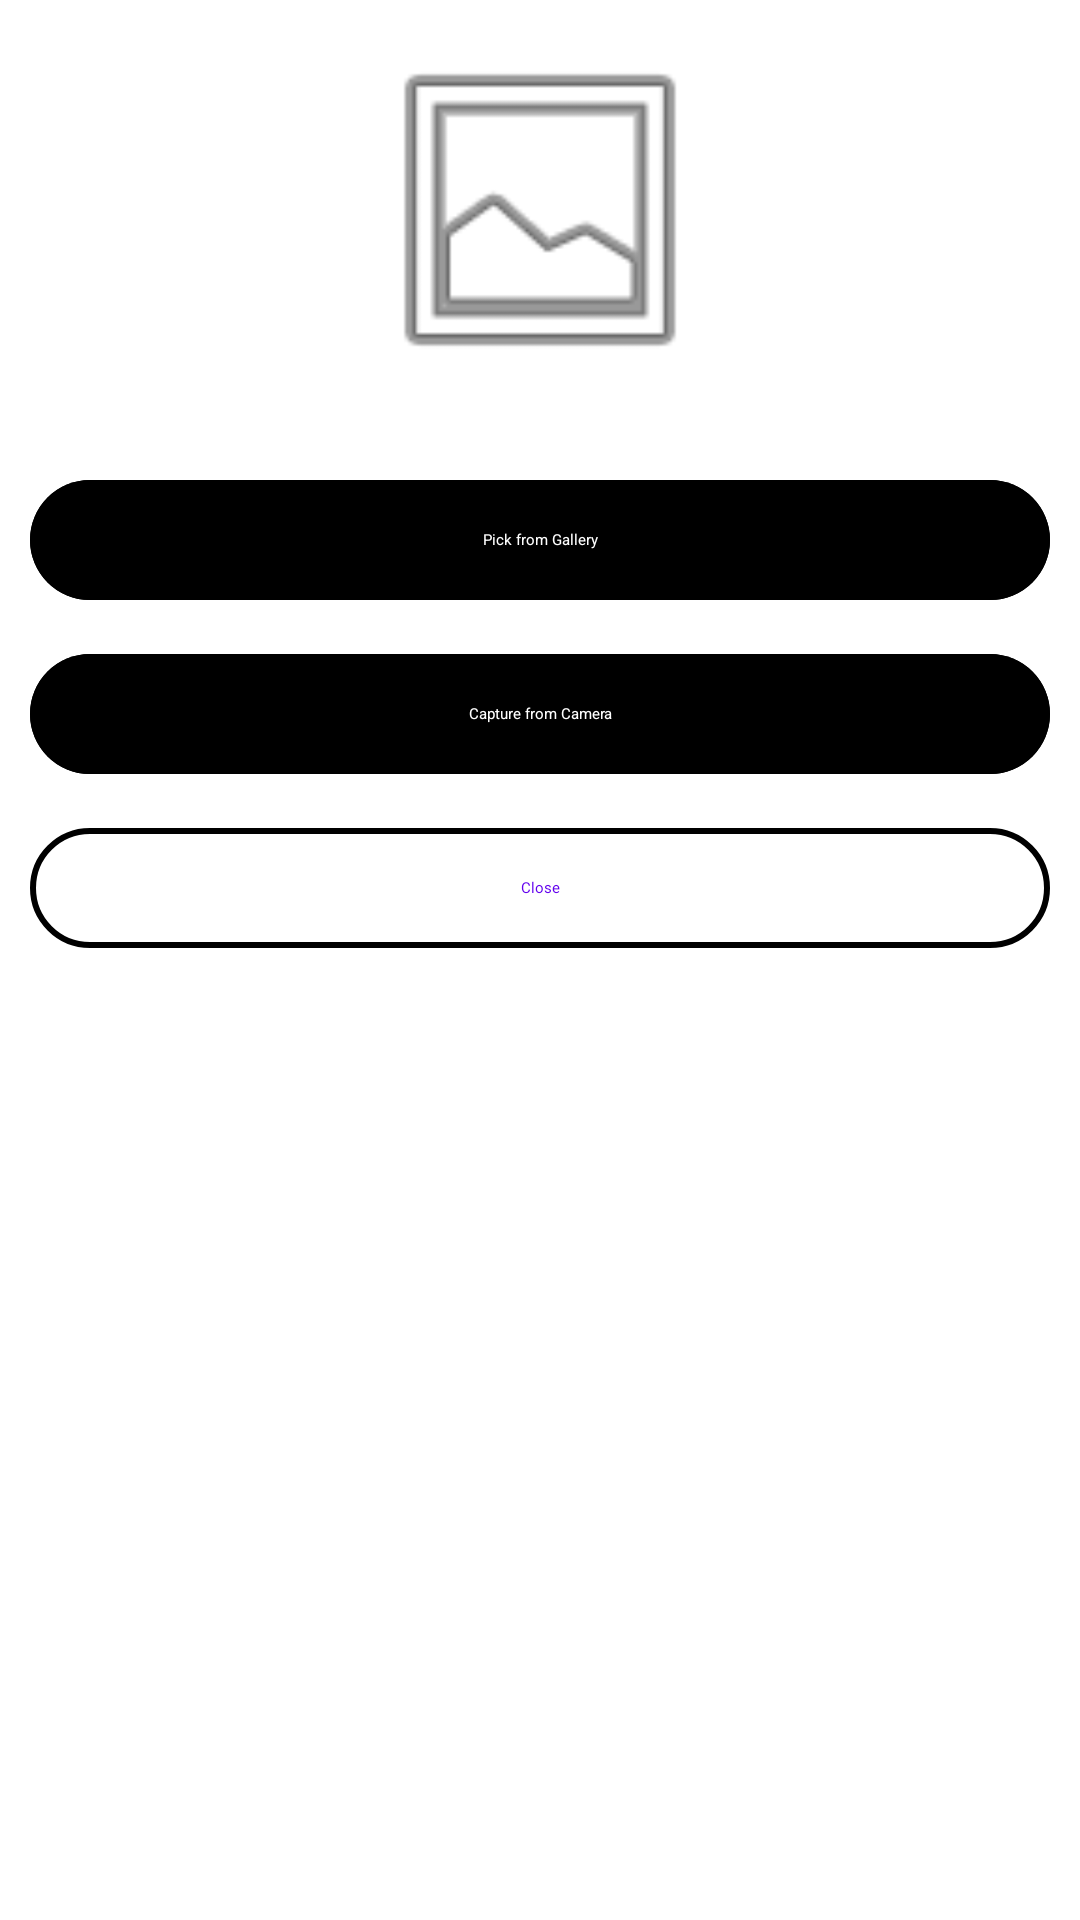

Icon click points for this 1080w x 1920h phone screenshot, format (x,y):
Selected Image: (540,210)
